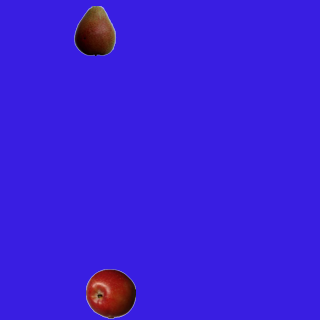Apple Braeburn: (85, 268, 135, 318)
Pear Forelle: (69, 5, 119, 55)
